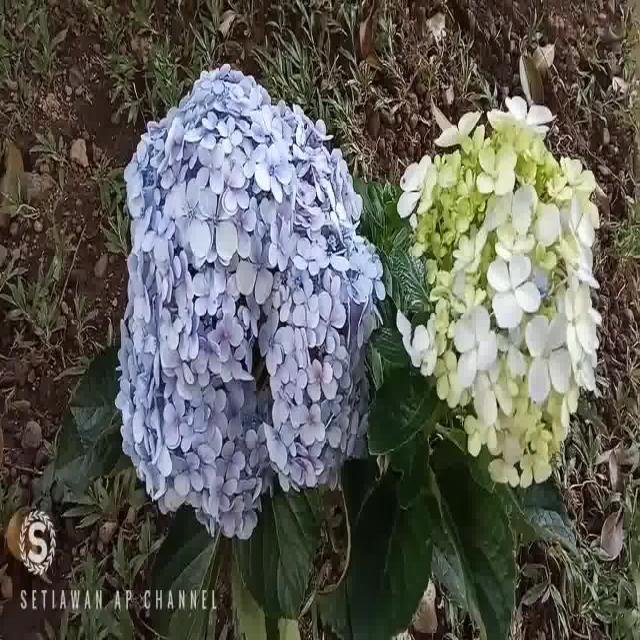Flower: (115, 58, 384, 532), (396, 81, 604, 497)
